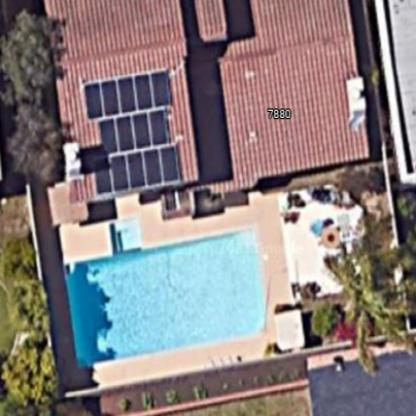pool: (50, 222, 282, 371)
